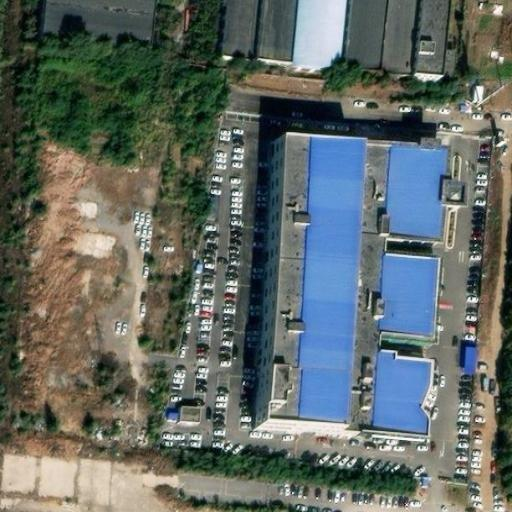building: (252, 159, 439, 453), (217, 0, 447, 86), (36, 0, 152, 50), (172, 402, 202, 424), (458, 352, 471, 375)
